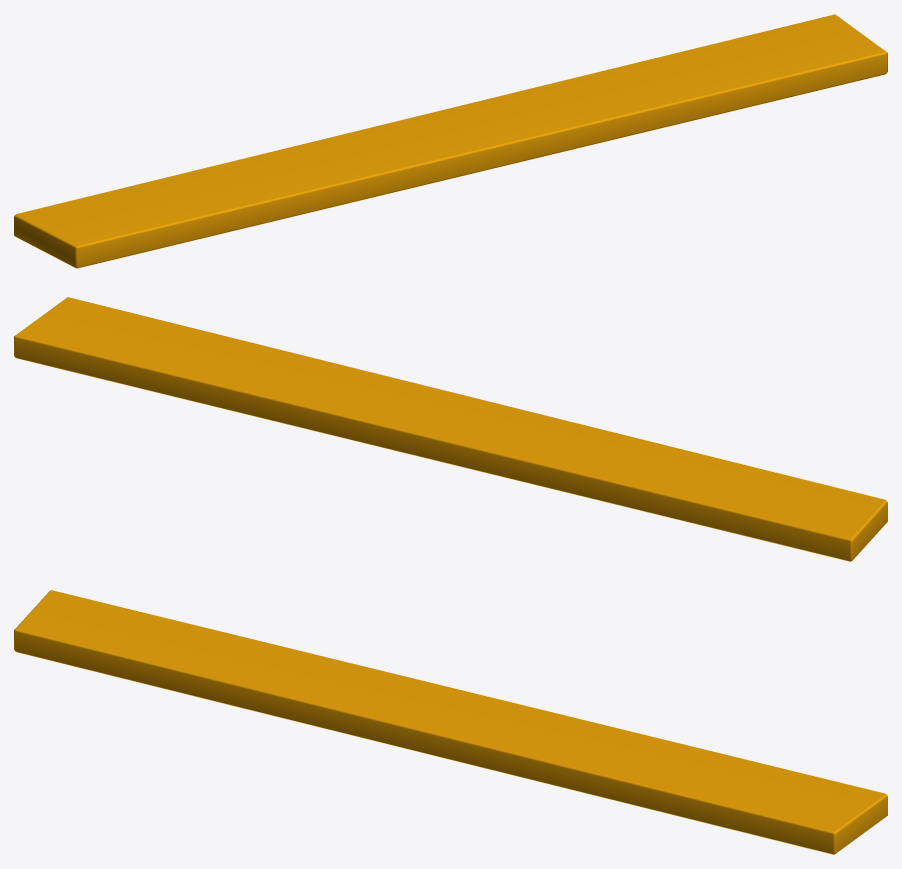
Rendered from Board_01.fbx.
3 views of the same model, one above another, from view 1: azimuth 30°, elevation 25°; view 2: azimuth 150°, elevation 25°; view 3: azimuth 330°, elevation 25° (orthographic).
Parts seen in each view (by area): view 1: Board_01; view 2: Board_01; view 3: Board_01.
Part boxes in pixels (x1=…): Board_01: x1=14, y1=14, x2=887, y2=268; Board_01: x1=14, y1=297, x2=887, y2=561; Board_01: x1=14, y1=590, x2=887, y2=854.
Bounding box in the file's own units: 155 × 4.14 × 17.32.
